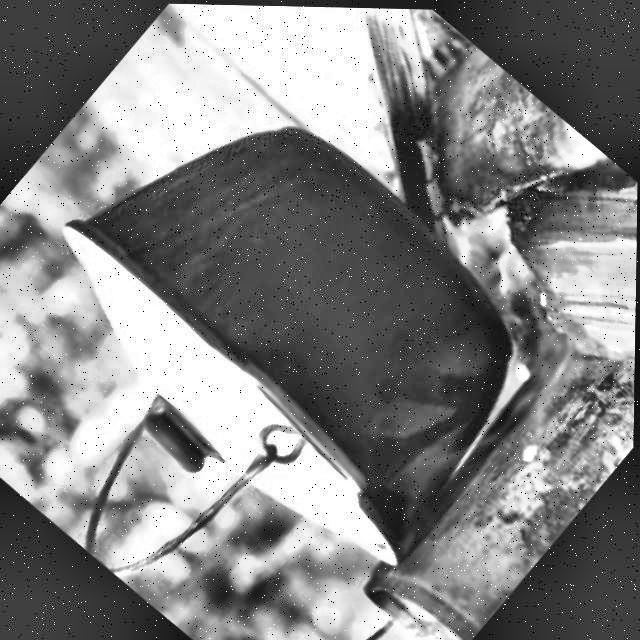Fire: (384, 195, 638, 436)
